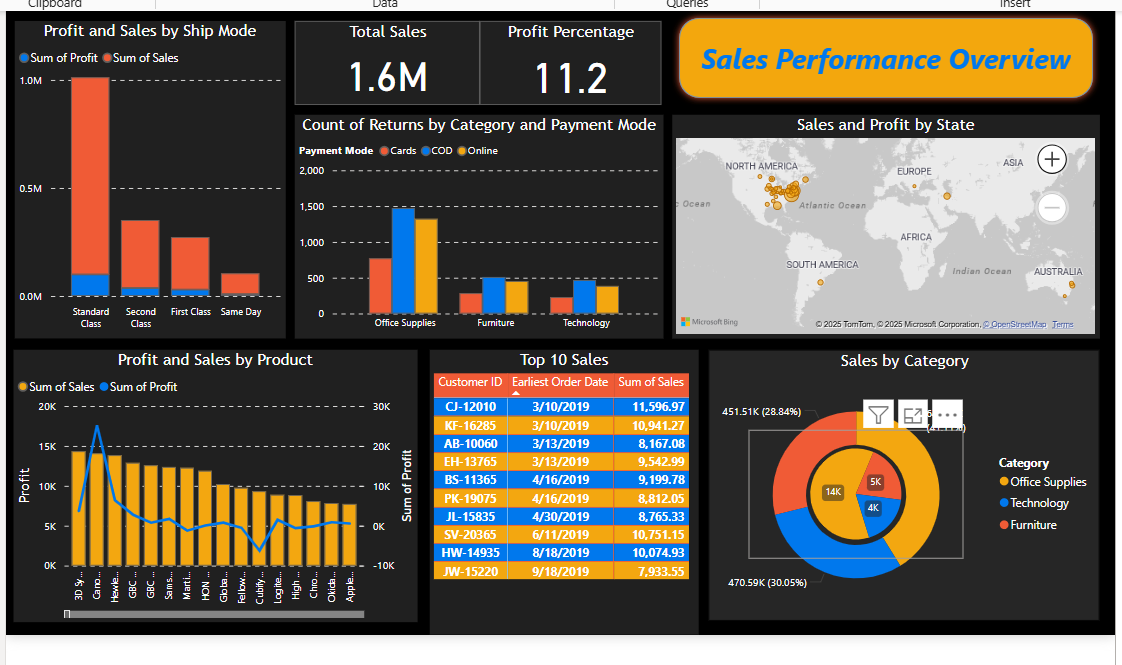

This screenshot's page, from the dashboard's own definition file:
{"tool":"powerbi","page":{"name":"Page 1","canvas":[1280,720],"ordinal":0},"visuals":[{"type":"card","title":"Total Sales","fields":{"Values":["Sheet1.Total_sales"]},"box":[333.3,11.5,213.5,96.7],"z":0},{"type":"card","title":"Profit Percentage","fields":{"Values":["Sheet1.Profit_Percentage"]},"box":[546.8,11.5,209.2,96.7],"z":1000},{"type":"lineStackedColumnComboChart","title":"Profit and Sales by Product","fields":{"Category":["Sheet1.Product Name"],"Y":["Sum(Sheet1.Sales)"],"Y2":["Sum(Sheet1.Profit)"]},"box":[8.7,391,466,314.5],"z":2000},{"type":"donutChart","title":"Sales by Category","fields":{"Category":["Sheet1.Category"],"Y":["Sum(Sheet1.Sales)"]},"box":[810.8,391,451.6,313.1],"z":3000},{"type":"lineClusteredColumnComboChart","fields":{"Category":["Sheet1.Category"],"Series":["Sheet1.Payment Mode"],"Y":["CountNonNull(Sheet1.Returns)"]},"box":[333.3,119.7,425.6,258.3],"z":4000},{"type":"pieChart","fields":{"Category":["Sheet1.Category"],"Y":["Sum(Sheet1.Quantity)"]},"box":[857,483.3,248.2,148.6],"z":5000},{"type":"lineStackedColumnComboChart","title":"Profit and Sales by Ship Mode","fields":{"Category":["Sheet1.Ship Mode"],"Y":["Sum(Sheet1.Profit)","Sum(Sheet1.Sales)"]},"box":[9.7,10.9,312.5,366.8],"z":6000},{"type":"pivotTable","title":"Top 10 Sales","fields":{"Rows":["Sheet1.Customer ID"],"Values":["Min(Sheet1.Order Date)","Sum(Sheet1.Sales)"]},"box":[489.1,391,310.2,328.9],"z":6002},{"type":"map","title":"Sales and  Profit by State","fields":{"Category":["Sheet1.State"],"Size":["Sum(Sheet1.Sales)"]},"box":[769,119.7,493.4,258.3],"z":6003},{"type":"textbox","box":[810.8,11.5,408.3,85.1],"z":6004},{"type":"shape","box":[769,0,493.4,108.2],"z":6005}]}

Visuals, with their boxes on the page's 1280x720 design canvas (x1, y1, x2, y2). These are canvas units, not pixel positions in the 1122x665 screenshot, which may show the page scaled, cropped or inside an application window:
"Total Sales" card: x1=333 y1=12 x2=547 y2=108
"Profit Percentage" card: x1=547 y1=12 x2=756 y2=108
"Profit and Sales by Product" lineStackedColumnComboChart: x1=9 y1=391 x2=475 y2=706
"Sales by Category" donutChart: x1=811 y1=391 x2=1262 y2=704
lineClusteredColumnComboChart - Sheet1.Category x Sheet1.Payment Mode: x1=333 y1=120 x2=759 y2=378
pieChart - Sheet1.Category x Sum(Sheet1.Quantity): x1=857 y1=483 x2=1105 y2=632
"Profit and Sales by Ship Mode" lineStackedColumnComboChart: x1=10 y1=11 x2=322 y2=378
"Top 10 Sales" pivotTable: x1=489 y1=391 x2=799 y2=720
"Sales and  Profit by State" map: x1=769 y1=120 x2=1262 y2=378
textbox: x1=811 y1=12 x2=1219 y2=97
shape: x1=769 y1=0 x2=1262 y2=108
